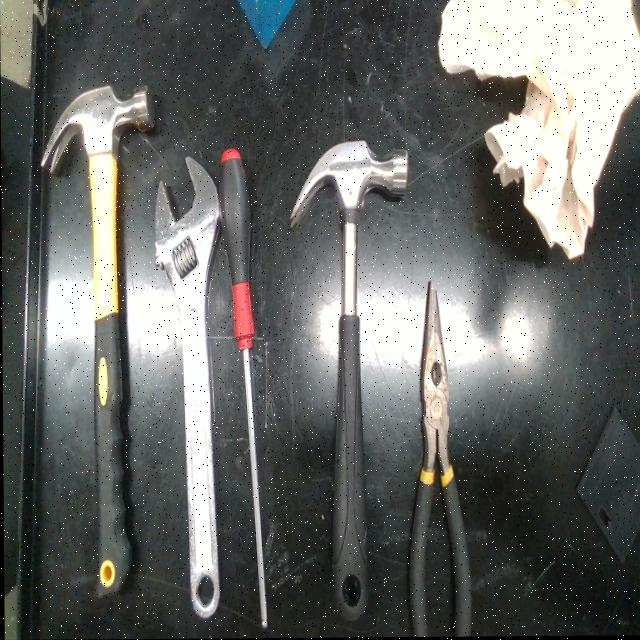Screwdriver: (219, 150, 266, 627)
